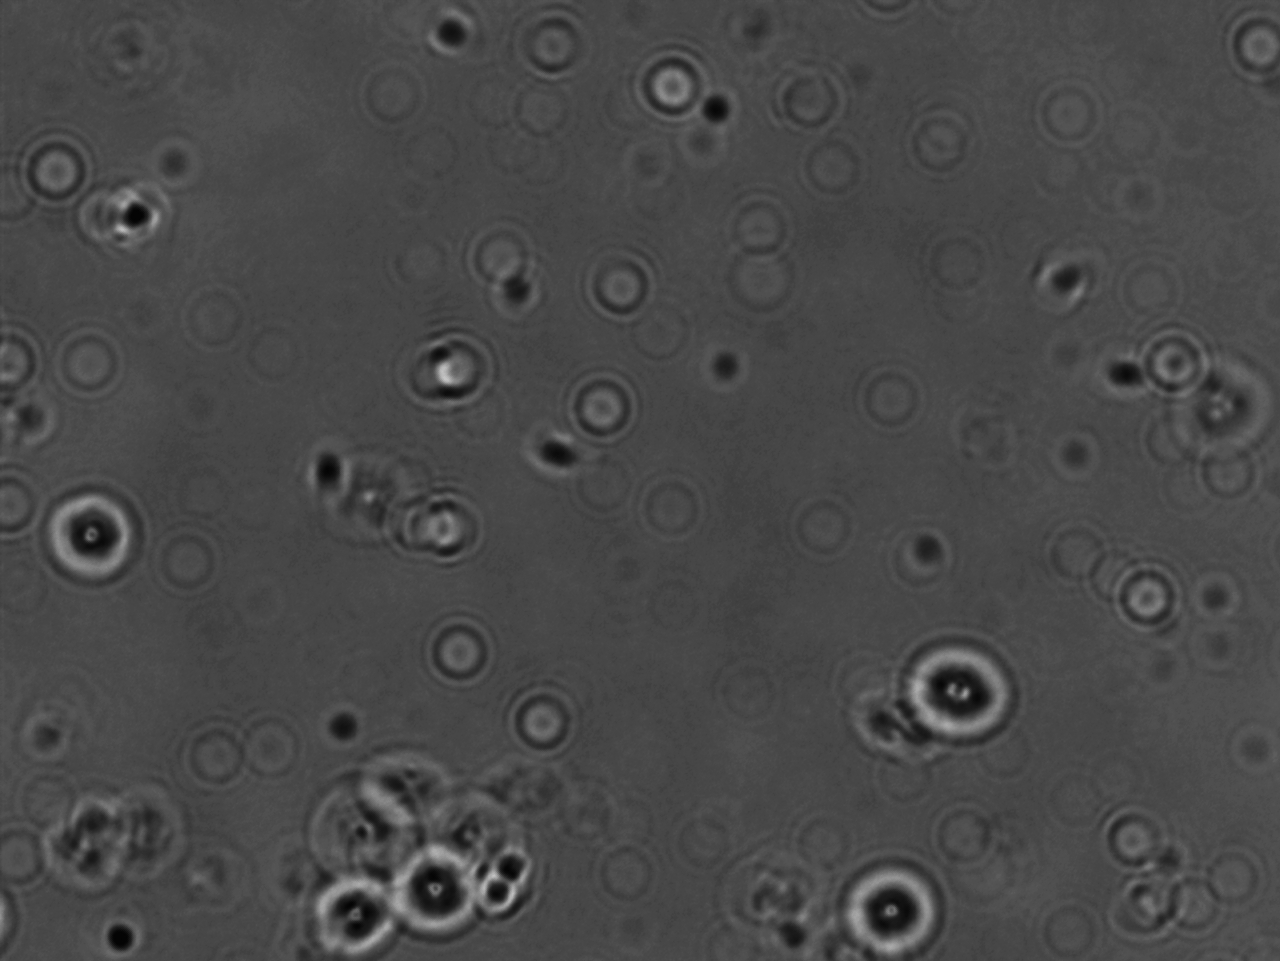depth:-8: (896, 631, 1031, 752), (827, 849, 960, 961), (35, 478, 155, 591), (369, 835, 490, 947), (299, 860, 411, 960)
